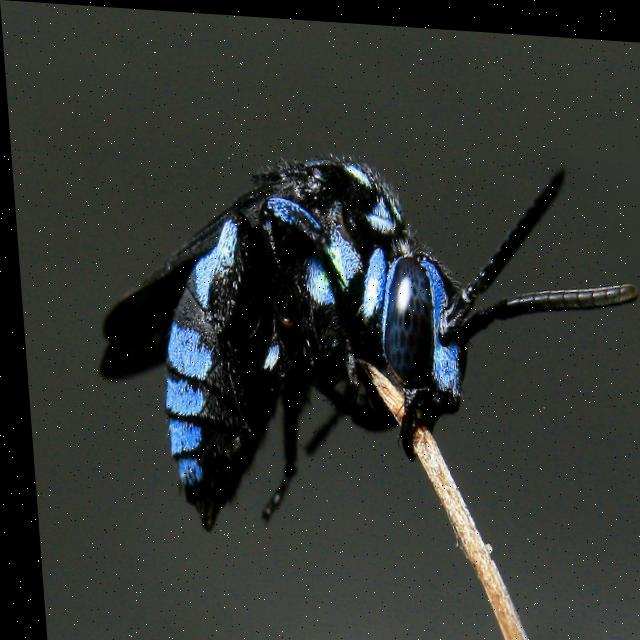Thyreus: (72, 114, 640, 563)
